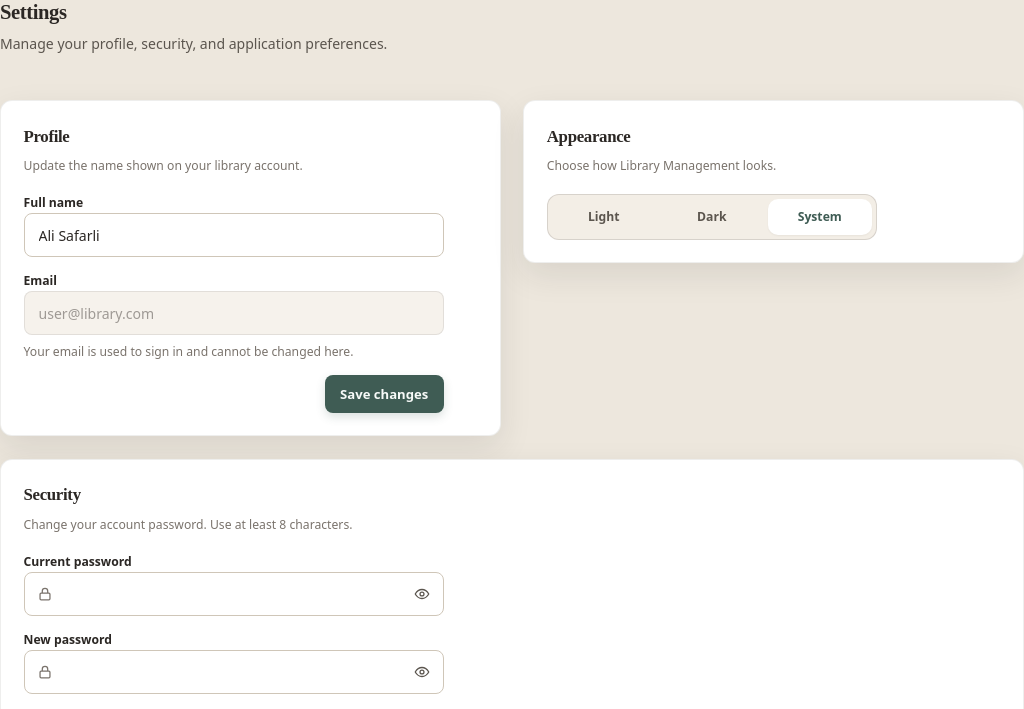
Test: SettingsPage › saves a successful name update
The image size is (1024, 709).
Replace the text in the field labelled "Full name" with "Ali Updated": (234, 235) [24,213,444,257]
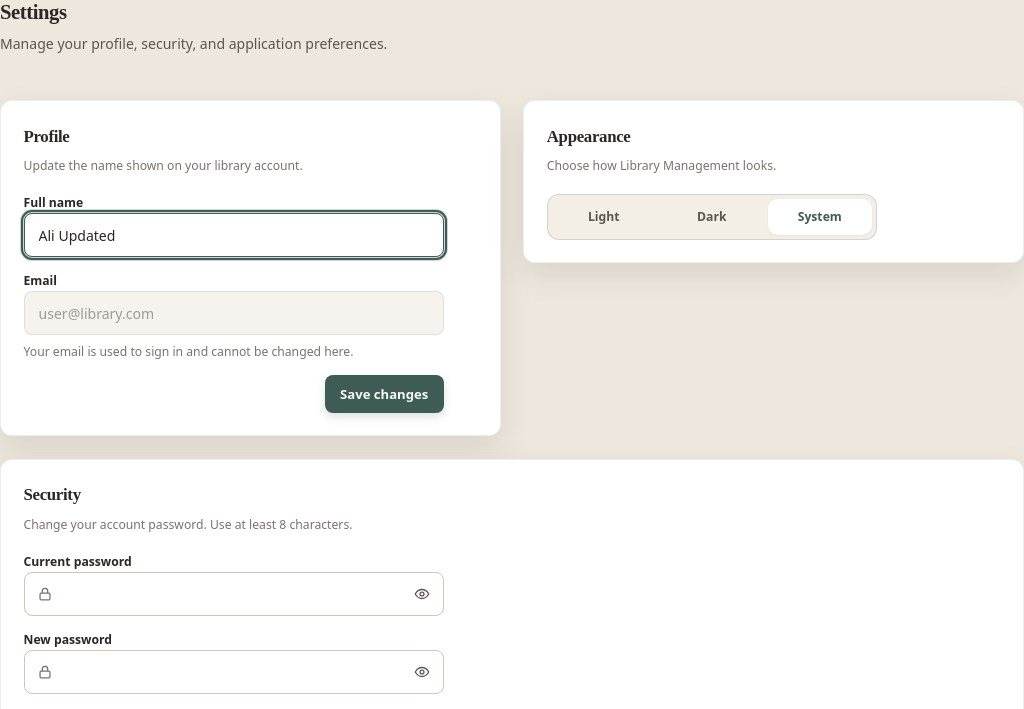
Click the button "Save changes": (384, 394) [325,375,444,413]
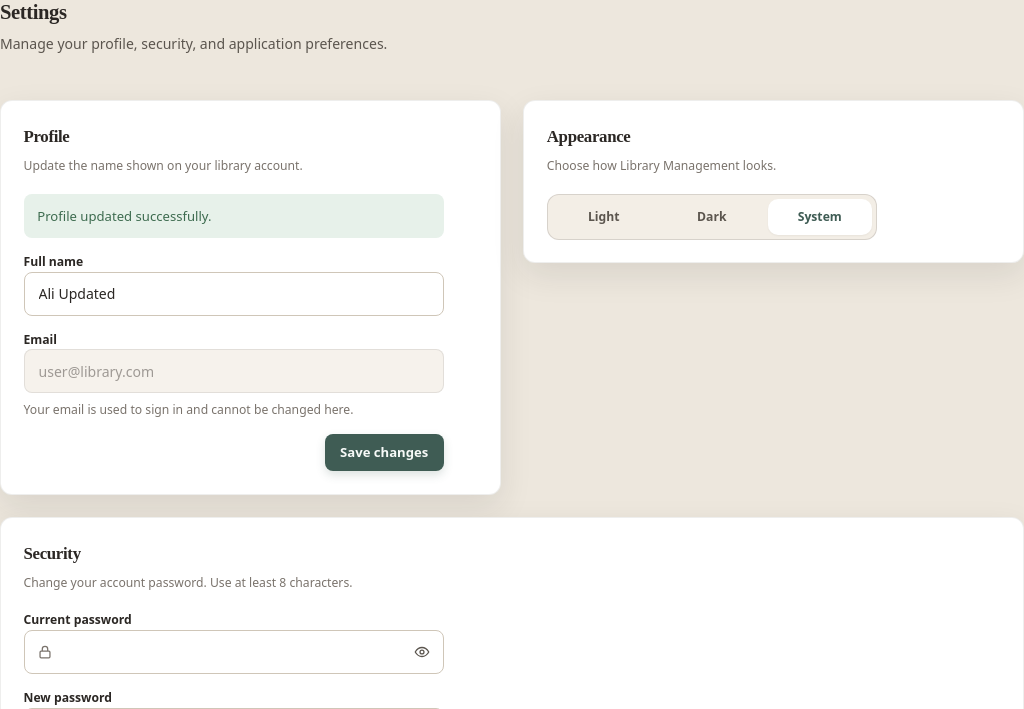
Result: the text "Profile updated successfully." is shown at [24,194,444,238]
